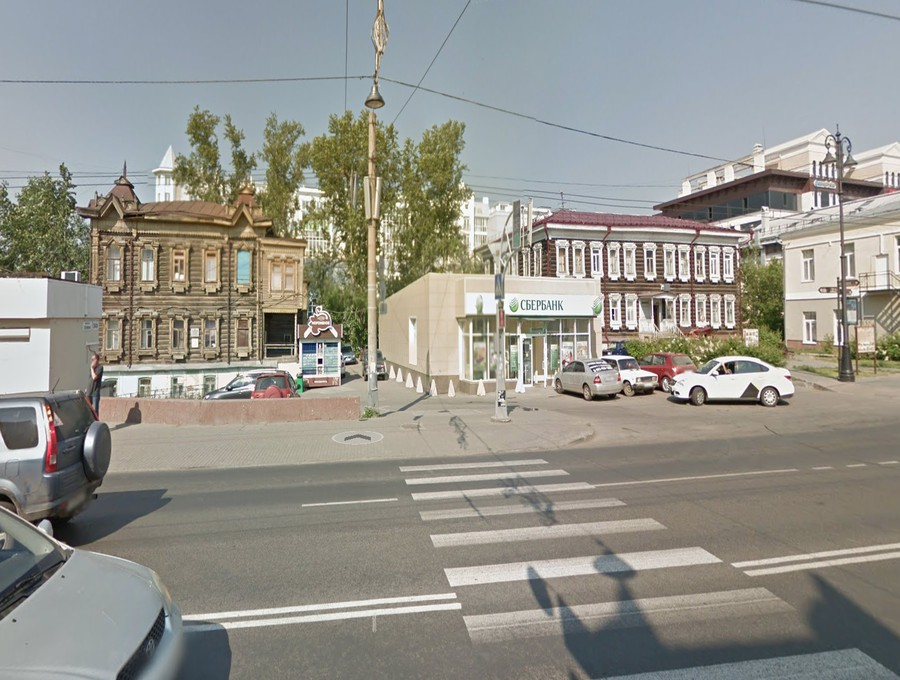Traffic Light-red: (495, 307, 507, 331)
